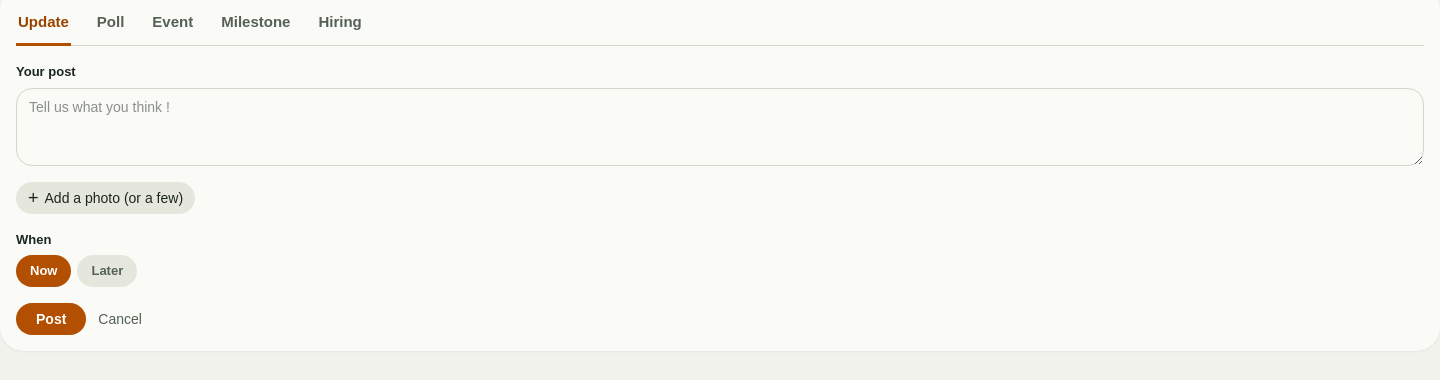
Test: Later wants a time that is still ahead
The width and height of the screenshot is (1440, 380).
Step 1. Type "new gear" into the text box with placeholder "Tell us what you think !" → (720, 126), box top-left (16, 88), bottom-right (1424, 166)
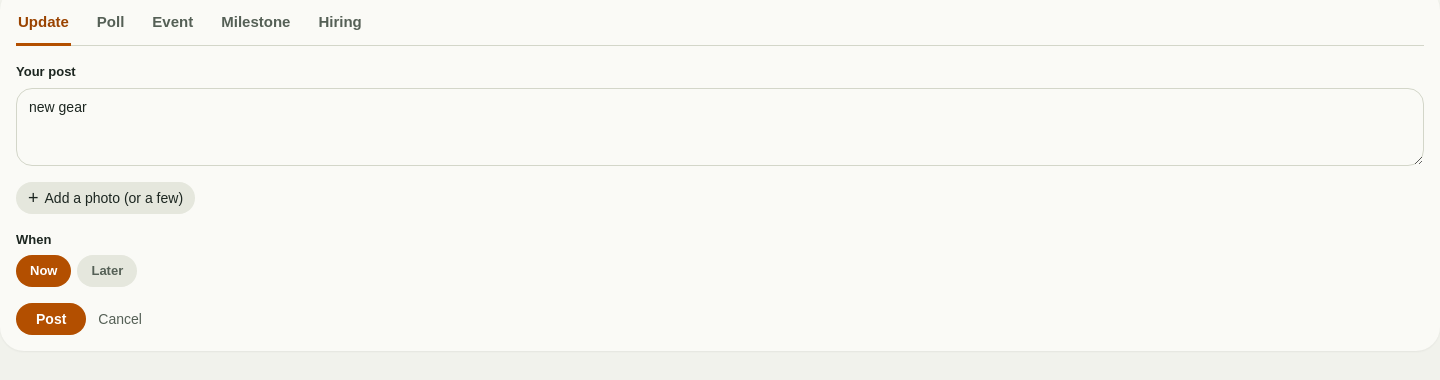
Step 2. Click the radio button labelled "Later" → (107, 271), box top-left (78, 255), bottom-right (137, 286)
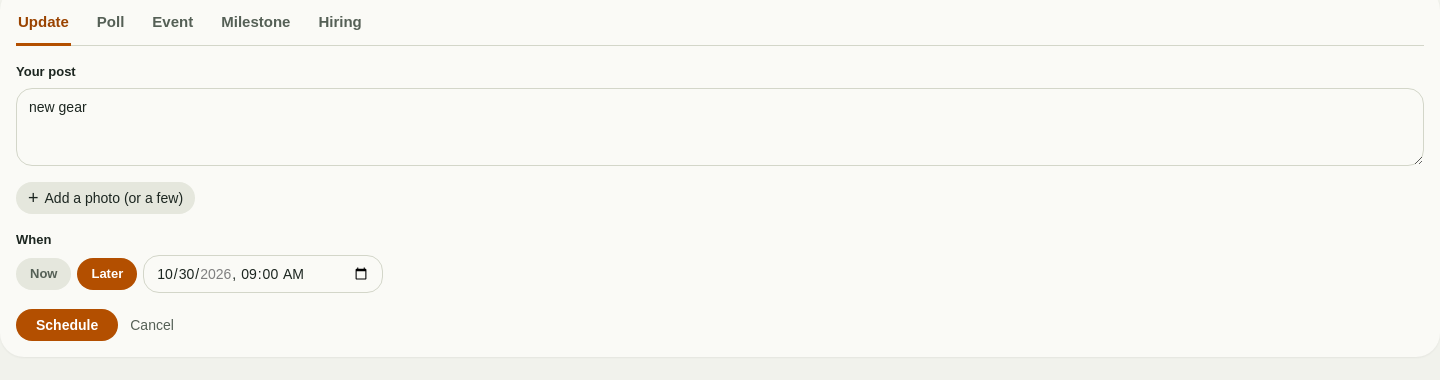
Step 3. Replace the text in the field named "Date and time to post" with "2020-01-01T09:00" → (263, 274), box top-left (143, 255), bottom-right (383, 293)
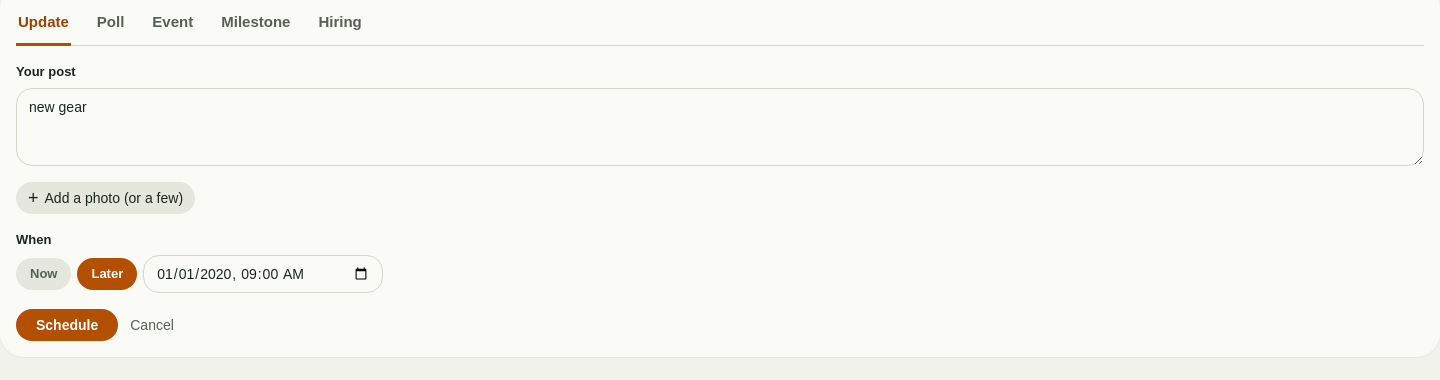
Step 4. Click the button "Schedule" → (67, 325), box top-left (16, 309), bottom-right (118, 341)
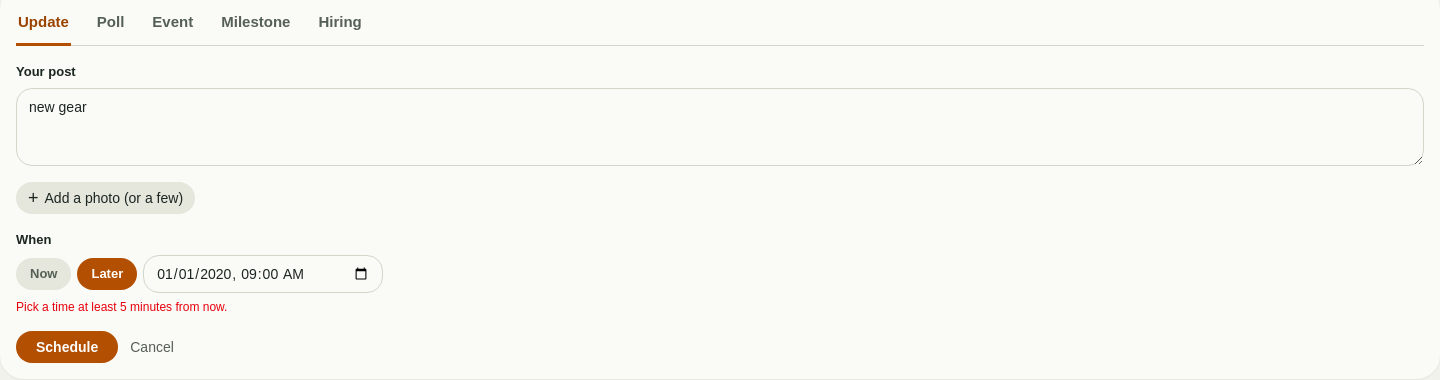
Now the text "Pick a time at least 5 minutes from now." is shown, box top-left (16, 300), bottom-right (227, 314)
